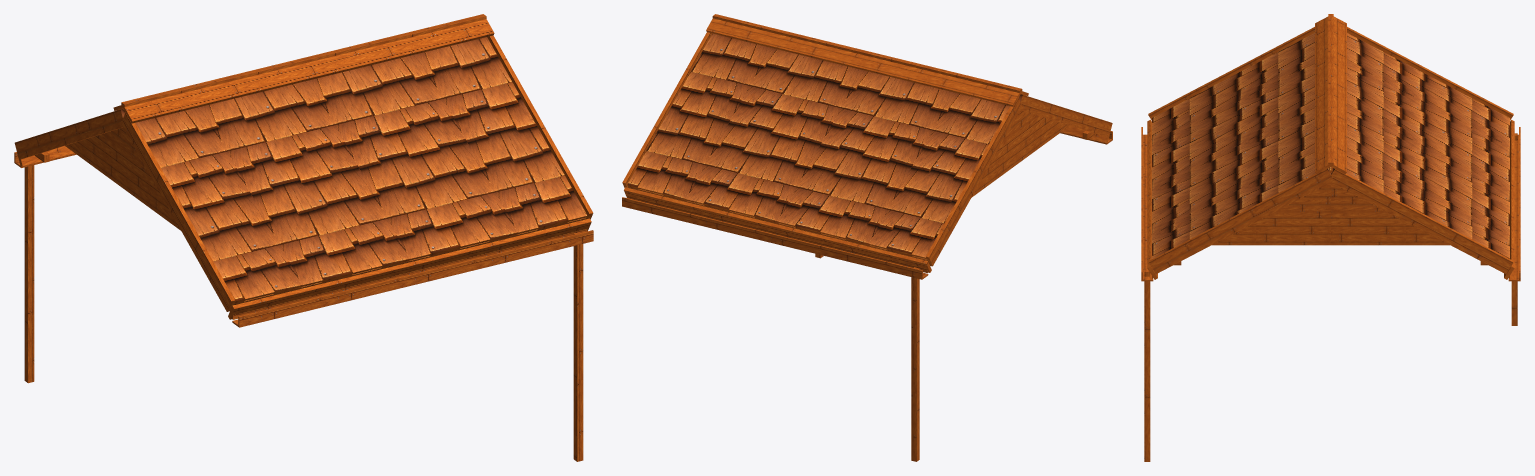
The model's file is Roof_Gable_4x4.fbx.
3 views of the same model, side by side, from view 1: azimuth 30°, elevation 25°; view 2: azimuth 150°, elevation 25°; view 3: azimuth 270°, elevation 25° (orthographic). The views are drawn at different scales.
Parts seen in each view (by area): view 1: Roof_Gable_4x4; view 2: Roof_Gable_4x4; view 3: Roof_Gable_4x4.
Boxes of the visible parts, box(x1,y1,x2,y2) form: Roof_Gable_4x4: box(14, 14, 593, 461); Roof_Gable_4x4: box(622, 14, 1112, 461); Roof_Gable_4x4: box(1141, 14, 1520, 461).
Size of the model in its own units: 4.7 by 4.48 by 5.06.
